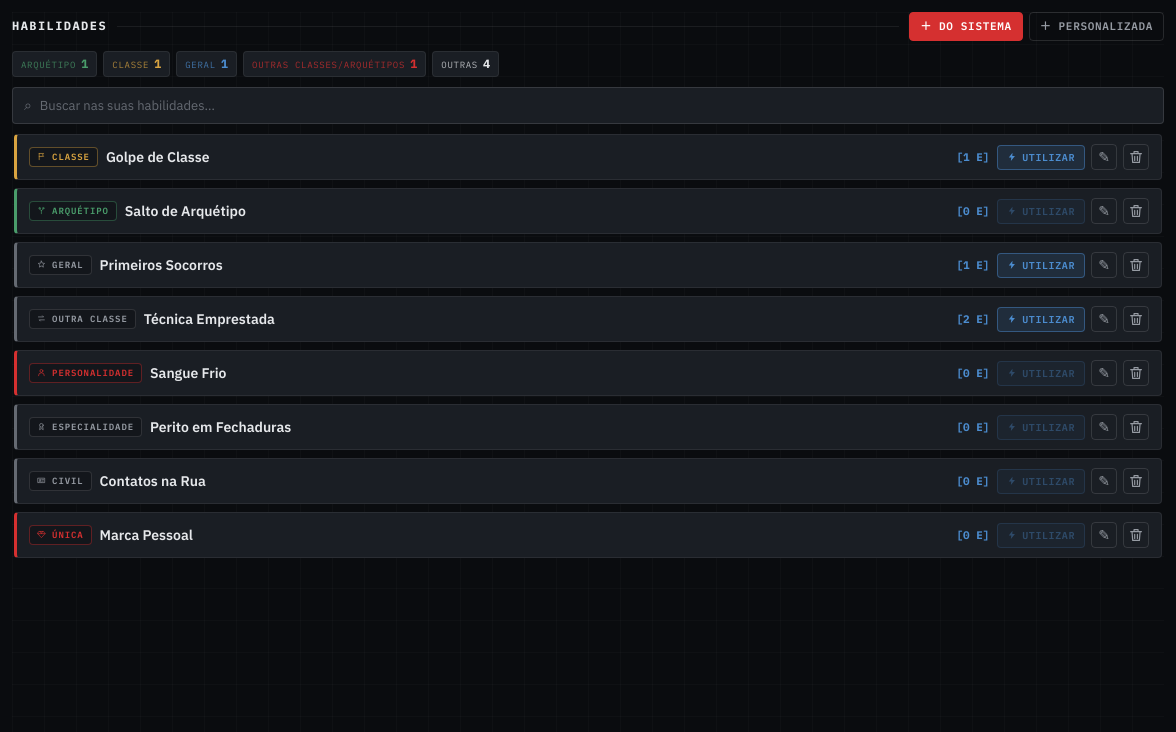
it: FichaHabilidades › filtro cumulativo por tipo pelo contador do resumo (m3-48) › o botão vassoura só aparece com algum filtro ativo, e limpa tudo ao clicar
Step 1. Click the button with class "habilidades__resumo-item" showing "Arquétipo 1" → click(55, 64), box x1=12 y1=50 x2=97 y2=76
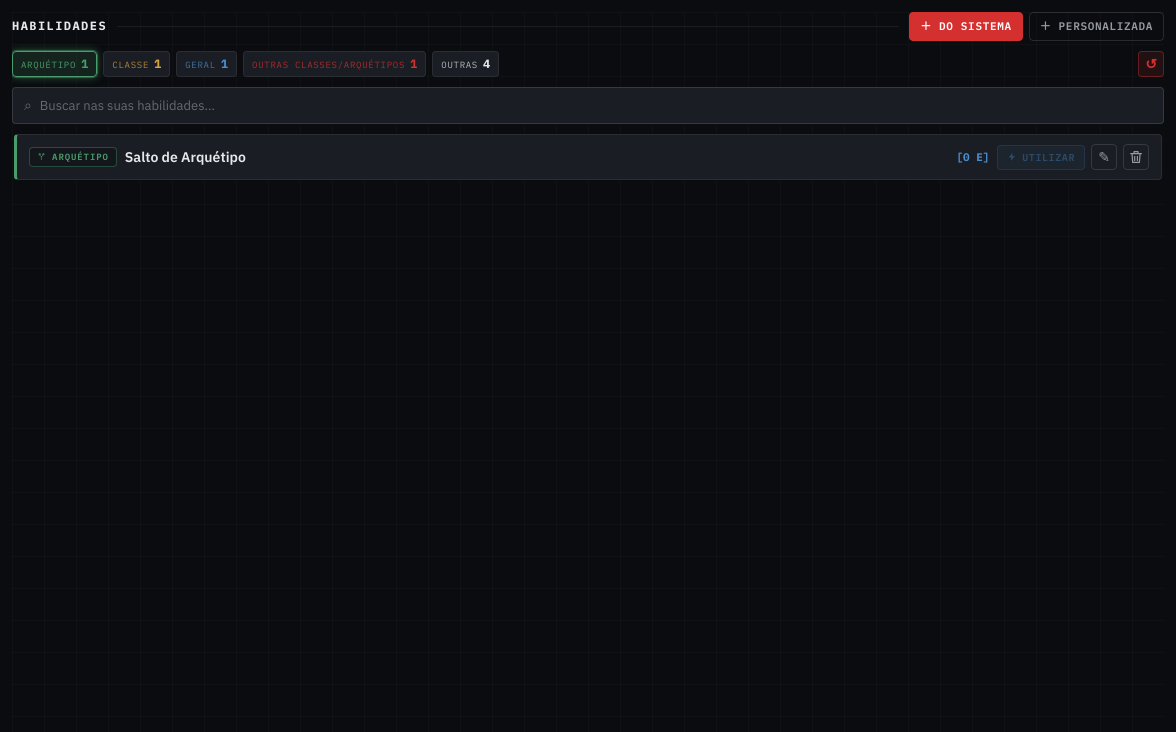
Check: the button with class "habilidades__limpar-filtro" is shown
Step 2. Click the button with class "habilidades__limpar-filtro" → click(1151, 64), box x1=1138 y1=50 x2=1164 y2=76
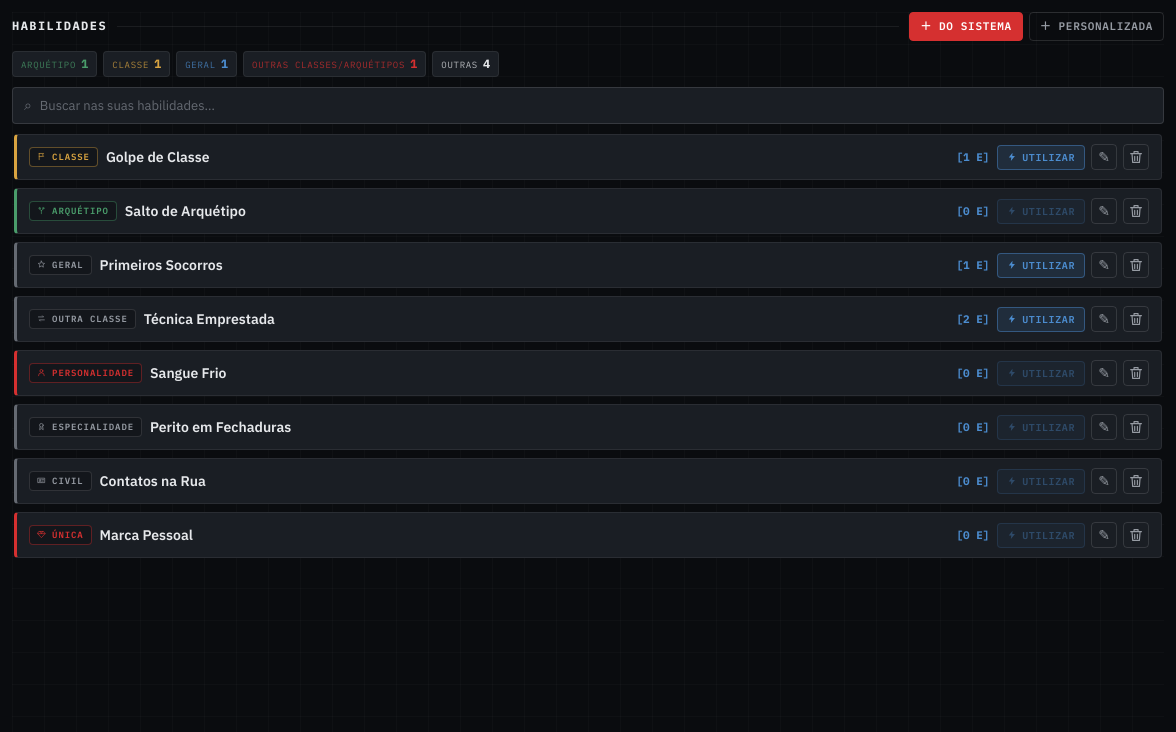
Check: the button with class "habilidades__limpar-filtro" is gone
